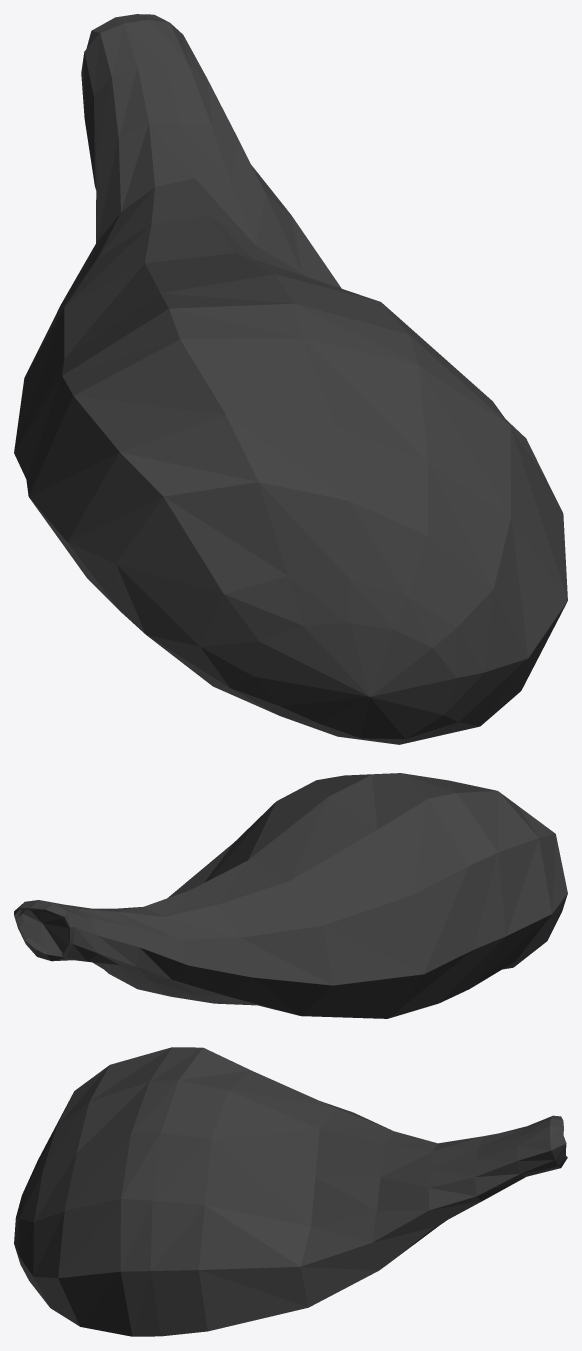
File: Bladder.glb
3 renders of one model, top to bottom at view 1: azimuth 30°, elevation 25°; view 2: azimuth 150°, elevation 25°; view 3: azimuth 270°, elevation 25°, orthographic. The views are drawn at different scales.
Parts seen in each view (by area): view 1: Bladder; view 2: Bladder; view 3: Bladder.
Boxes of the visible parts, x1,y1,x2,y2 form: Bladder: (14, 14, 567, 744); Bladder: (14, 773, 567, 1018); Bladder: (14, 1047, 567, 1336).
Size of the model in its own units: 69.66 by 49.13 by 114.
Materials: 1 (1 with a texture image).
